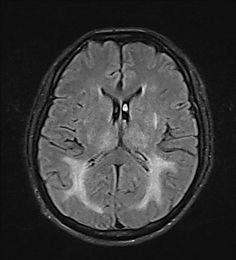Normal_Brain: (2, 2, 236, 260)
